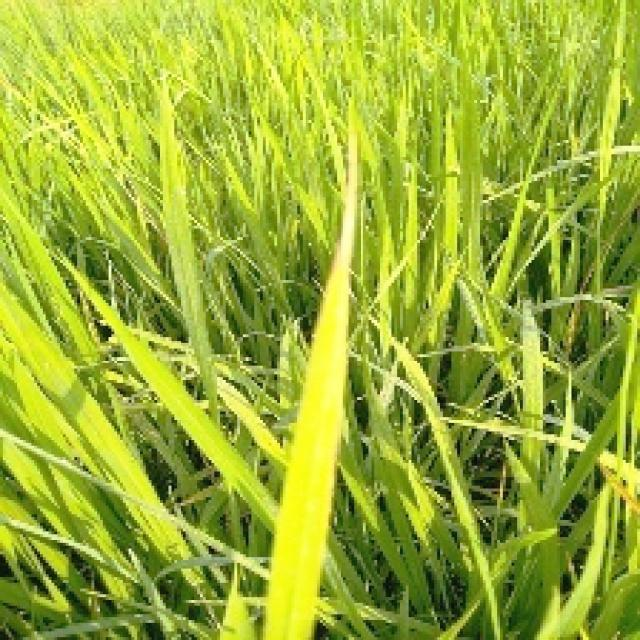unhealth: (262, 137, 352, 640)
